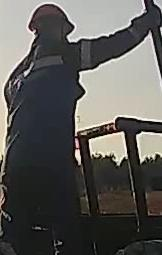gloves: (128, 3, 162, 41)
helmet: (26, 2, 74, 35)
vest: (0, 35, 94, 180)
